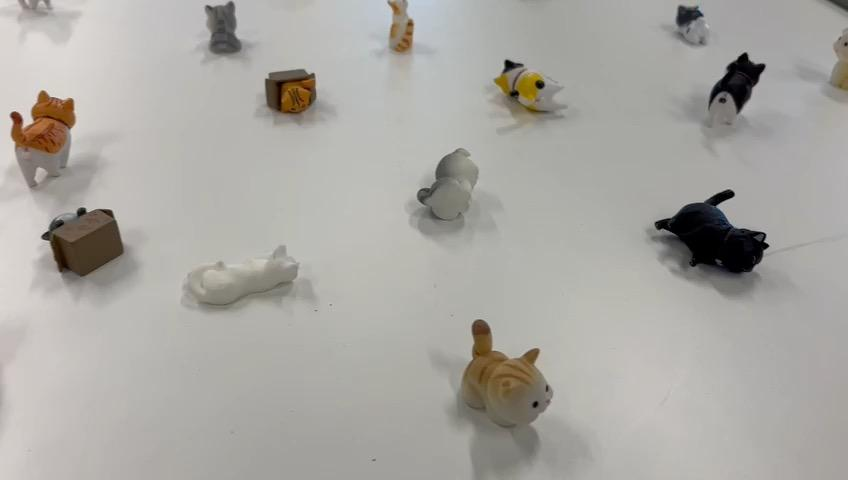pet: (448, 311, 566, 438), (636, 194, 784, 283), (0, 64, 104, 187), (686, 54, 784, 168), (33, 186, 140, 288), (188, 251, 316, 326), (488, 36, 577, 135), (426, 139, 489, 255), (248, 64, 339, 144), (366, 4, 443, 72), (188, 0, 264, 64), (671, 0, 728, 55)
